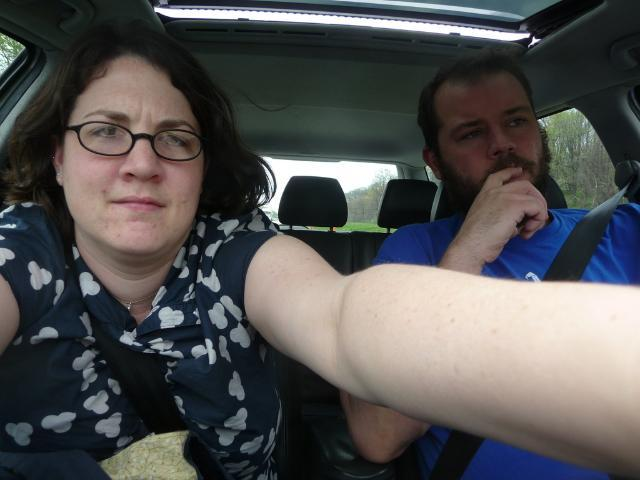SafeDriving: (150, 120, 199, 154), (84, 116, 131, 147), (450, 123, 490, 146), (502, 110, 535, 131)
Seatbelt: (428, 180, 634, 478), (52, 206, 225, 480)
